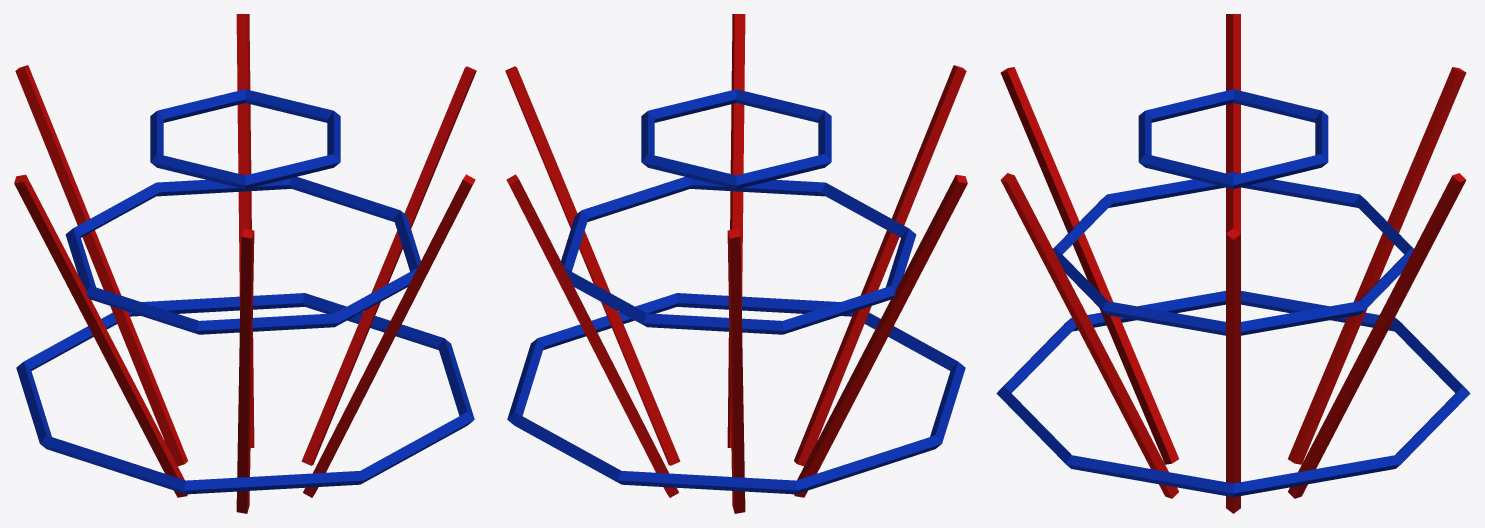
The model's file is jungle_dome.obj.
The picture shows the model from 3 angles, left to right: view 1: azimuth 30°, elevation 25°; view 2: azimuth 150°, elevation 25°; view 3: azimuth 270°, elevation 25°; orthographic projection.
Visible parts, largest first — view 1: jungle_dome; view 2: jungle_dome; view 3: jungle_dome.
Part boxes in pixels (<box>): jungle_dome: <box>14,14,476,513</box>; jungle_dome: <box>505,14,967,513</box>; jungle_dome: <box>996,14,1470,513</box>.
Bounding box in the file's own units: 2.09 × 1.56 × 1.86.
